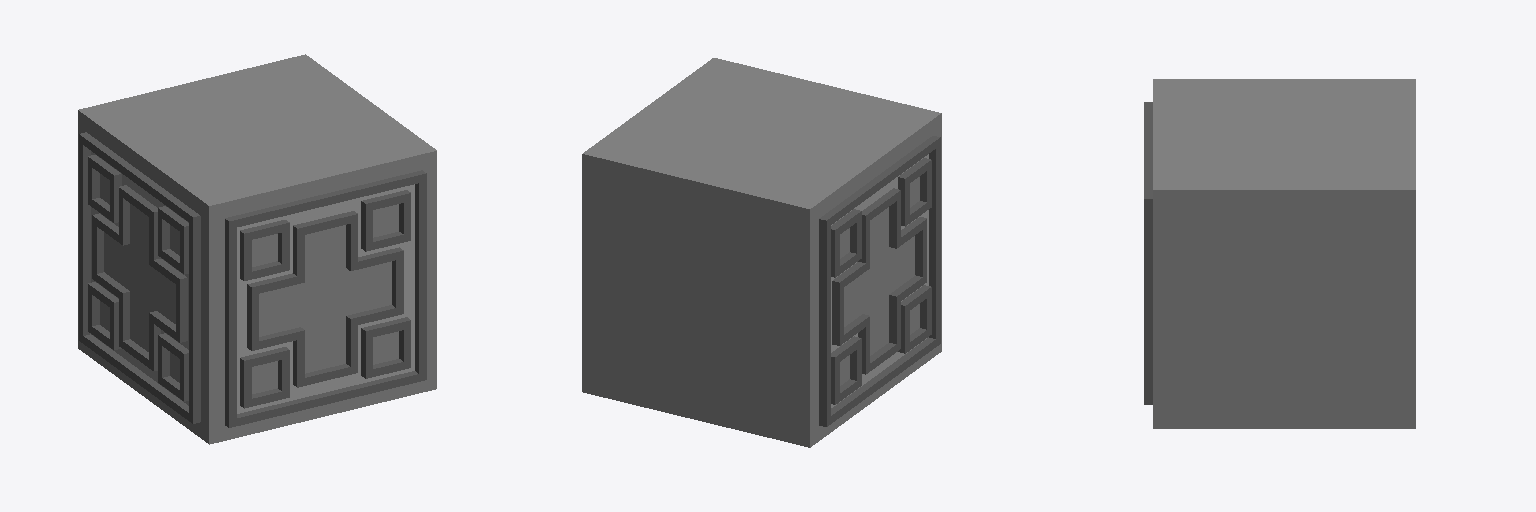
3 views of the same model, side by side, from view 1: azimuth 30°, elevation 25°; view 2: azimuth 150°, elevation 25°; view 3: azimuth 270°, elevation 25° (orthographic).
Bounding box in the file's own units: 0.9688 × 0.9688 × 0.9688.
Materials: 1 (1 with a texture image).